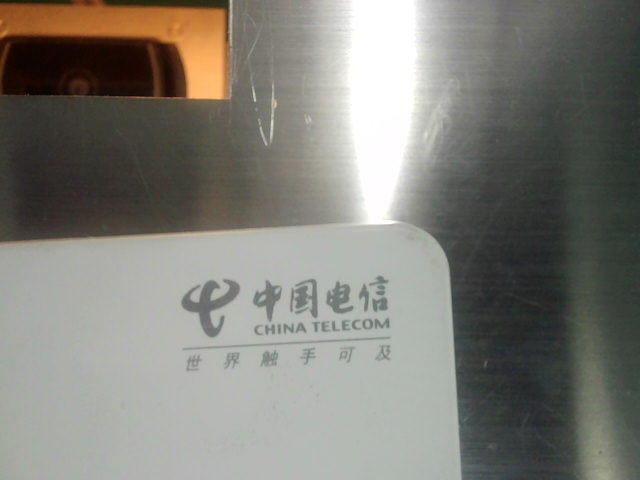AB_ChinaTelecom: (168, 272, 415, 379)
